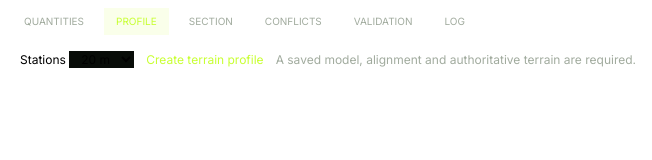
engineering dock › keeps failed terrain profiles explicit instead of adding fabricated stations
Click the button "Create terrain profile".
click(205, 60)  # box [146, 52, 264, 68]
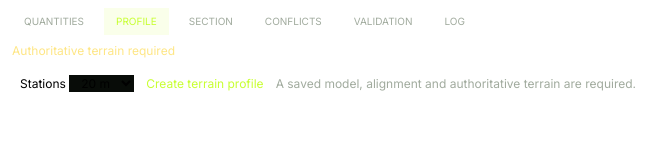
Result: the message reads "Authoritative terrain required" at [12, 43, 175, 58]
